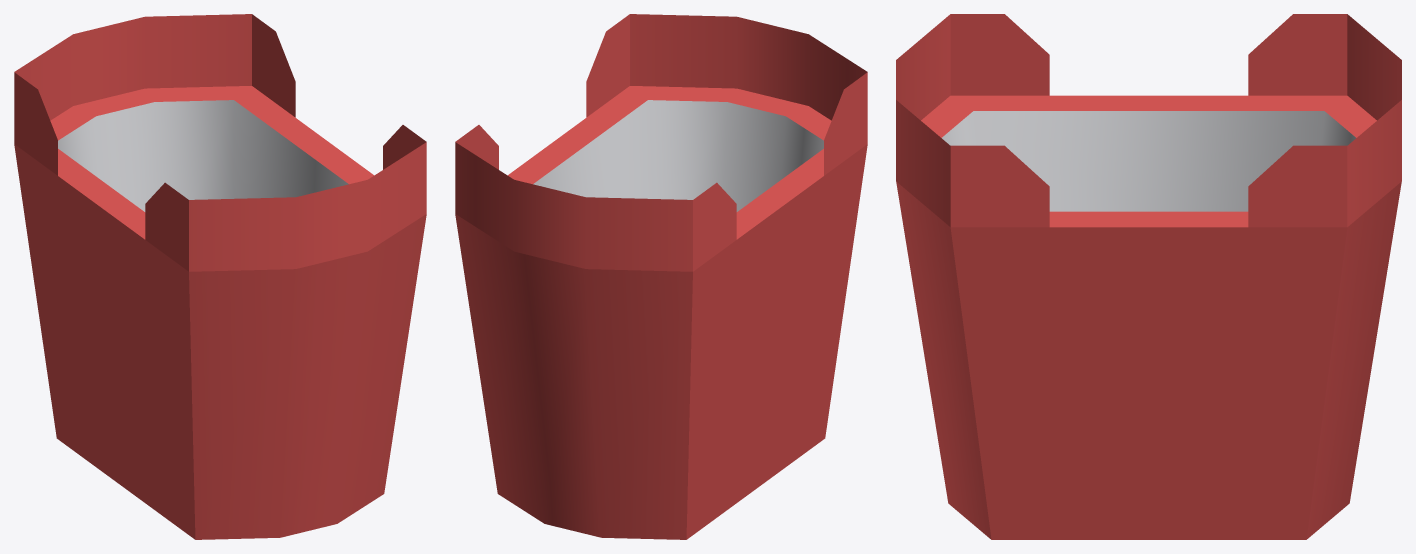
Rendered from friesEmpty.obj.
3 views of the same model, side by side, from view 1: azimuth 30°, elevation 25°; view 2: azimuth 150°, elevation 25°; view 3: azimuth 270°, elevation 25° (orthographic). The views are drawn at different scales.
Parts seen in each view (by area): view 1: friesEmpty; view 2: friesEmpty; view 3: friesEmpty.
Boxes of the visible parts, x1,y1,x2,y2 form: friesEmpty: (14,14,426,539); friesEmpty: (455,14,867,539); friesEmpty: (896,14,1401,539).
Size of the model in its own units: 0.1635 by 0.236 by 0.2653.
